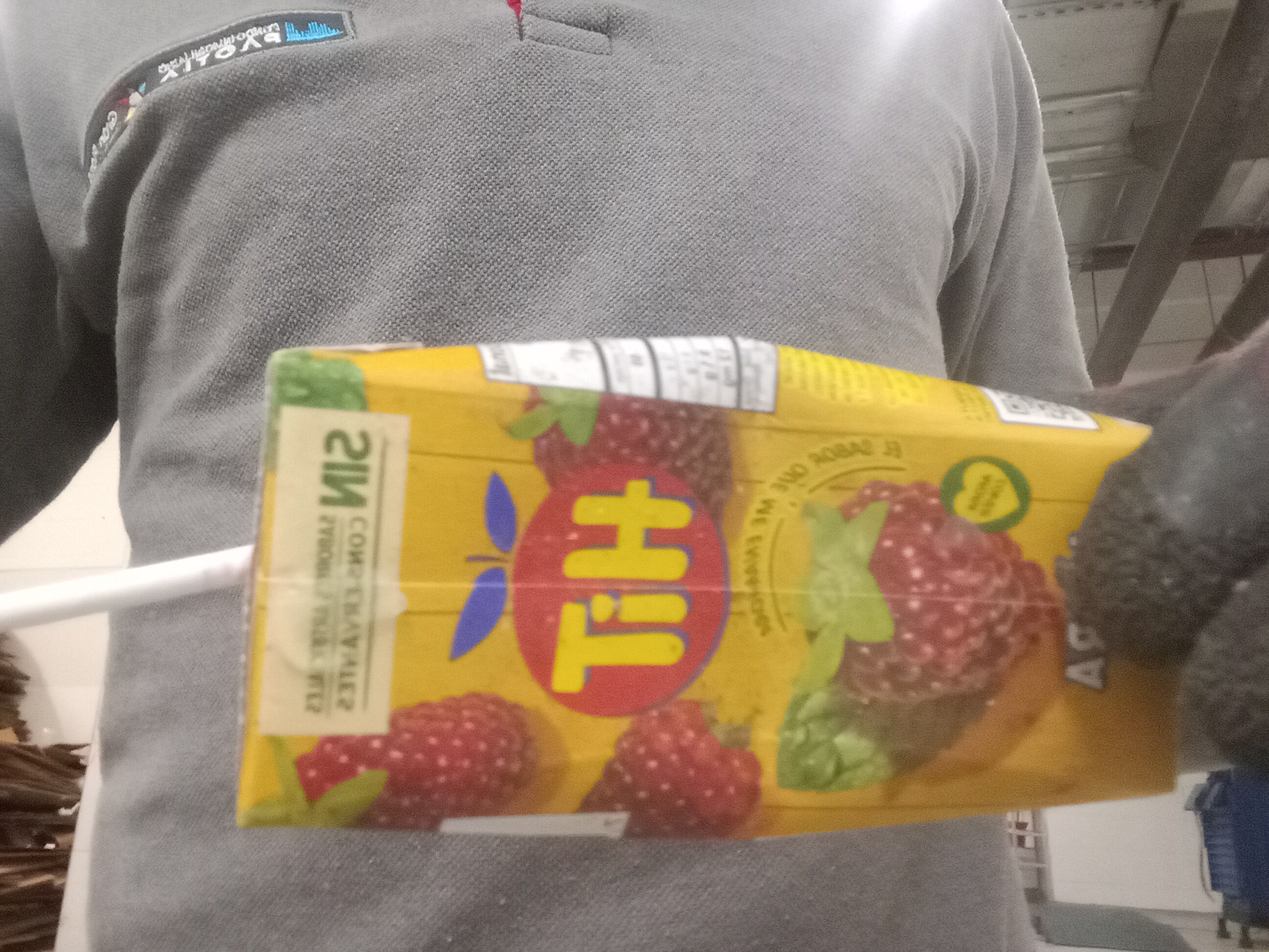Carton: (238, 336, 1184, 831)
